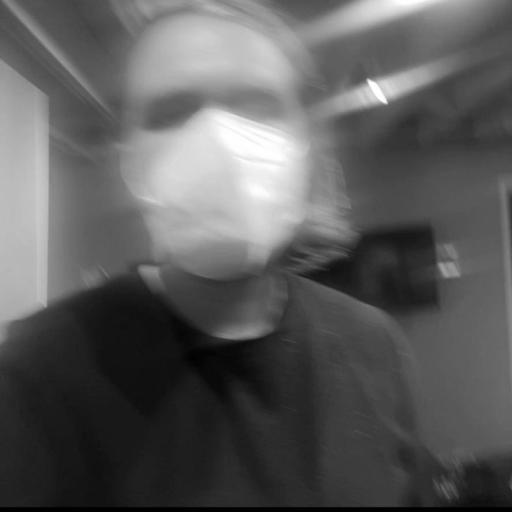mask: (112, 0, 358, 297)
